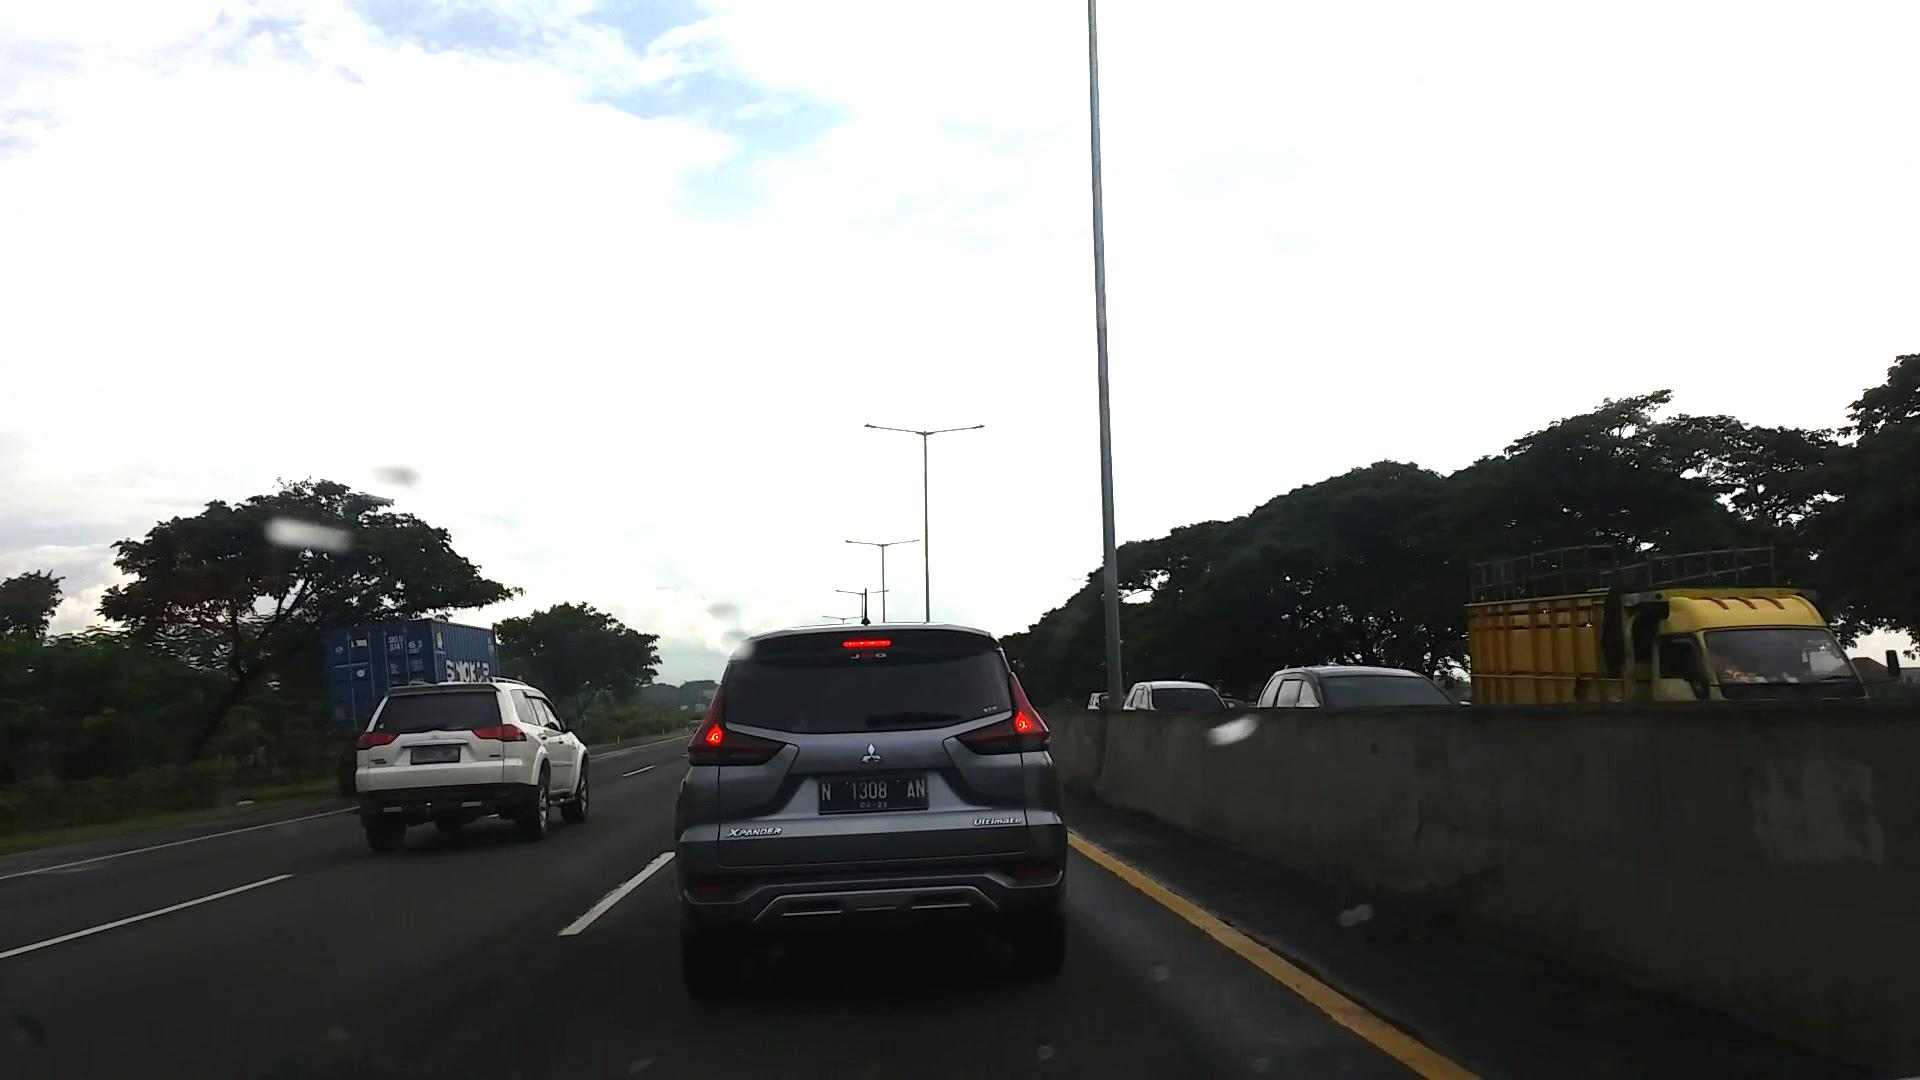plate_positive: (819, 775, 928, 812)
